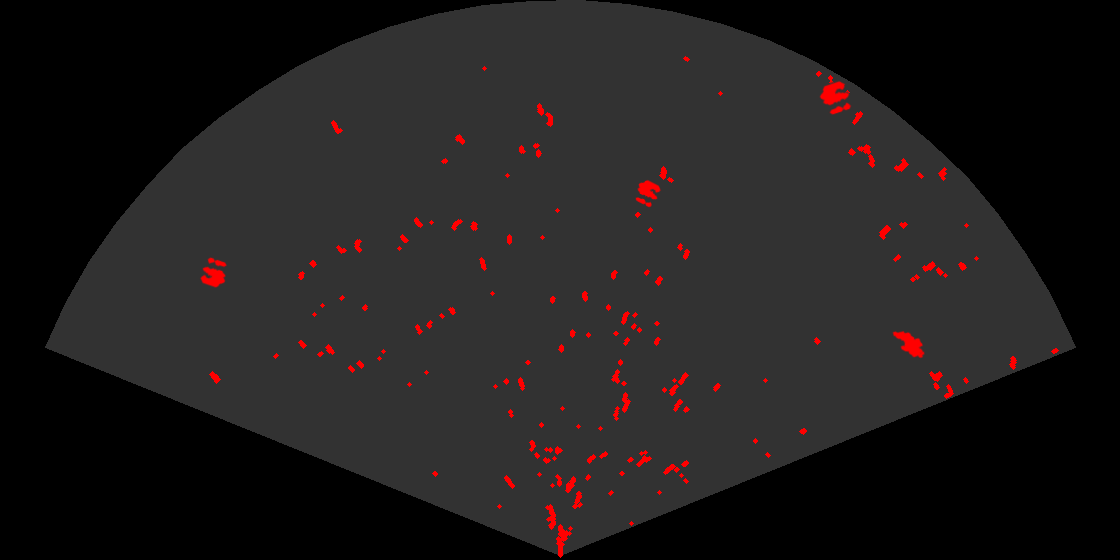AUV: (891, 329, 926, 360)
ball: (818, 79, 853, 117), (199, 256, 229, 289), (634, 178, 663, 209)
